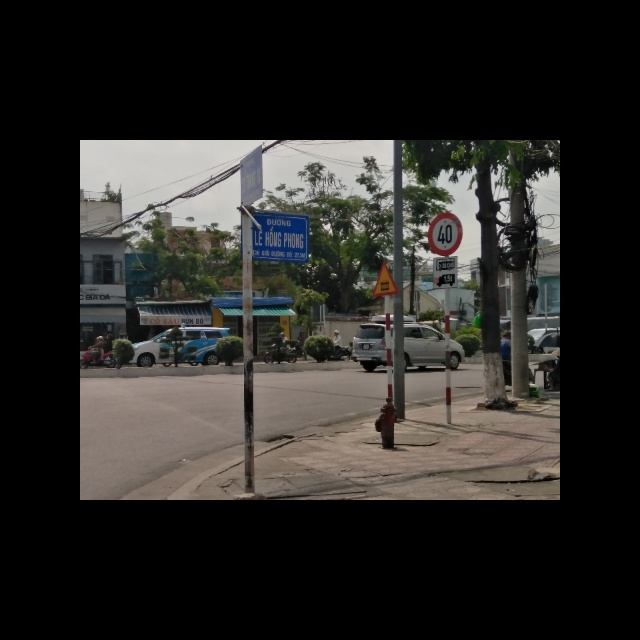Giao nhau với đường sắt có rào chắn: (370, 260, 397, 296)
Tốc độ tối đa cho phép 40km/h: (428, 213, 462, 258)
